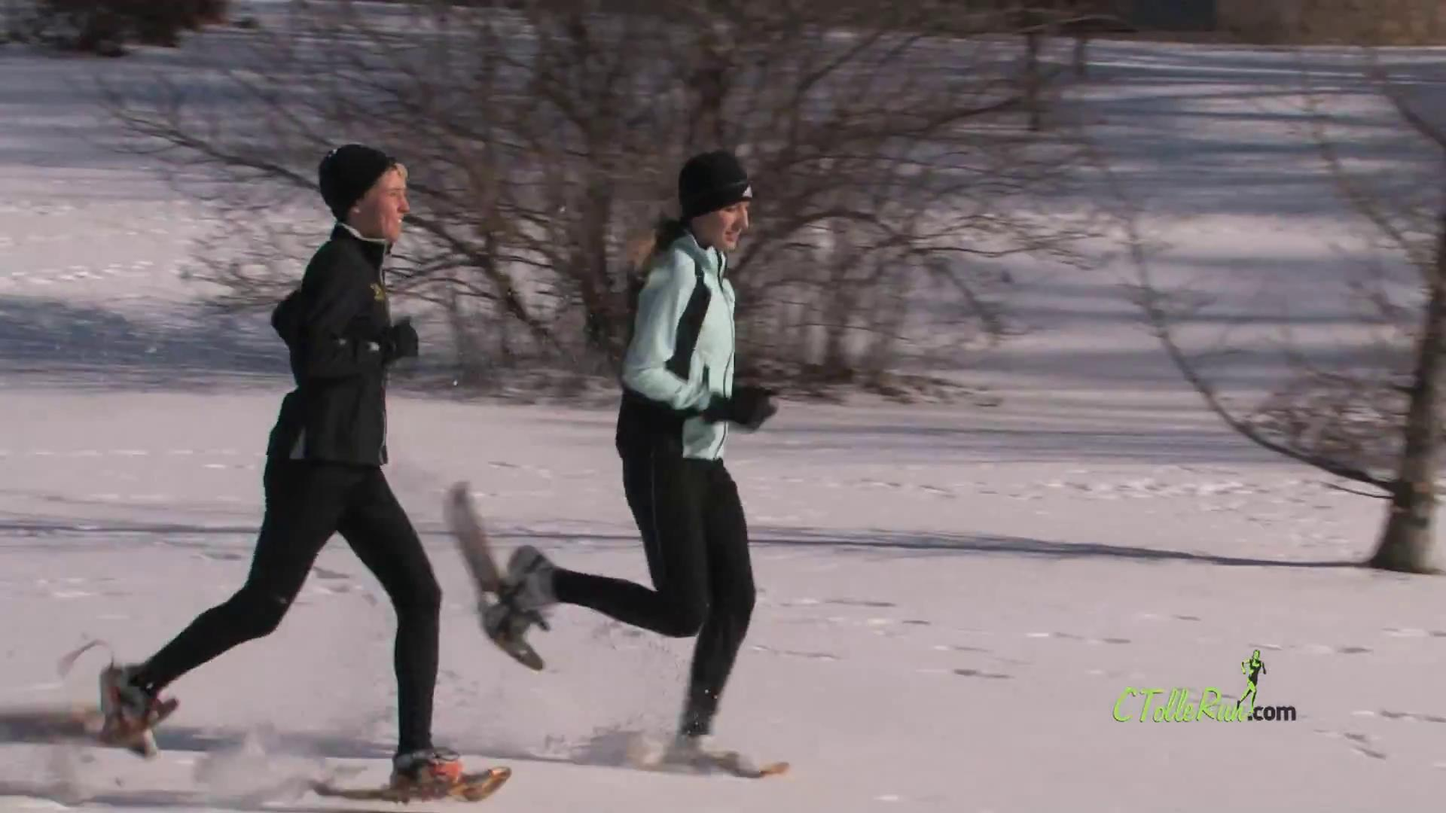victim: (95, 142, 471, 802), (486, 148, 778, 779)
